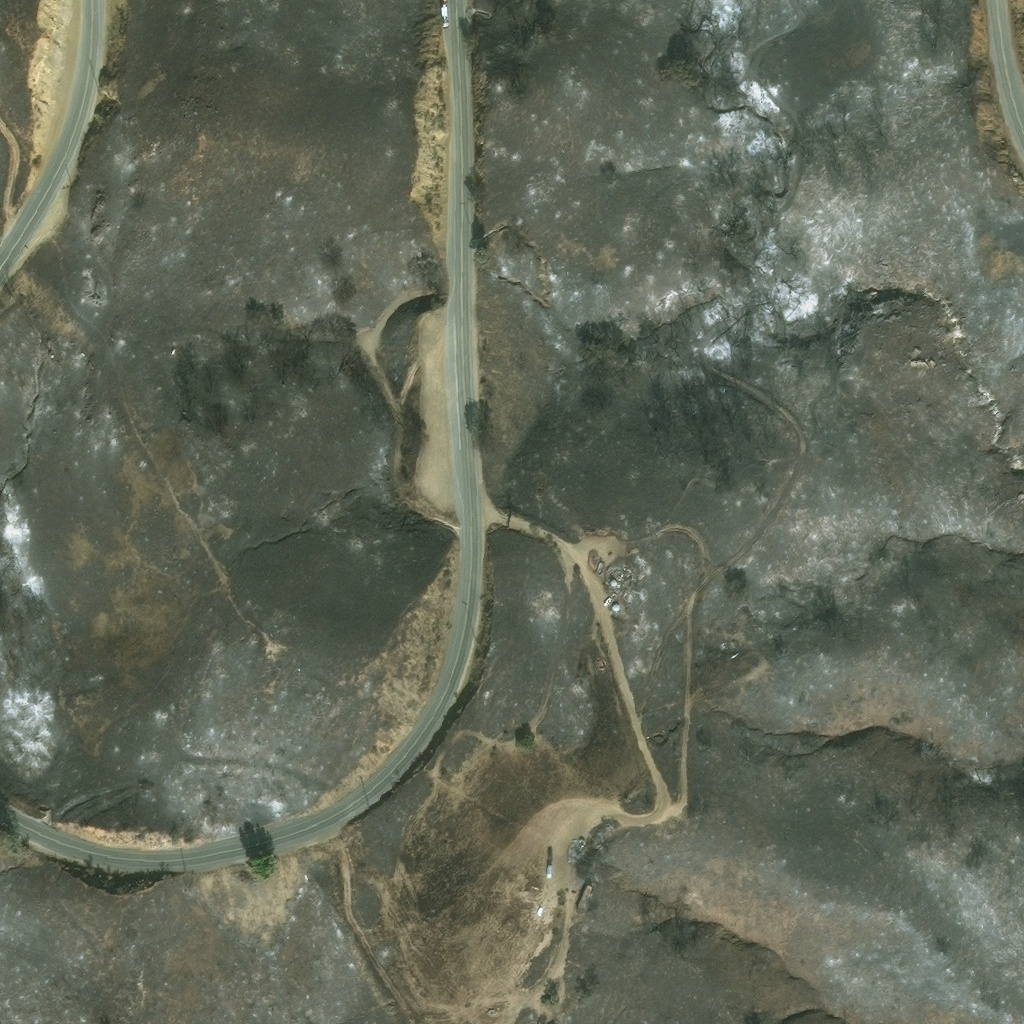0 no-damage: (611, 604, 621, 613), (609, 580, 616, 586)
3 destroyed: (611, 566, 635, 596), (605, 546, 620, 558), (607, 567, 618, 579), (601, 554, 610, 563), (603, 597, 612, 606), (625, 593, 634, 601), (605, 823, 613, 830), (720, 642, 725, 651), (613, 560, 620, 566), (768, 660, 775, 664), (727, 628, 735, 631)
4 un-classified: (0, 170, 5, 176)
